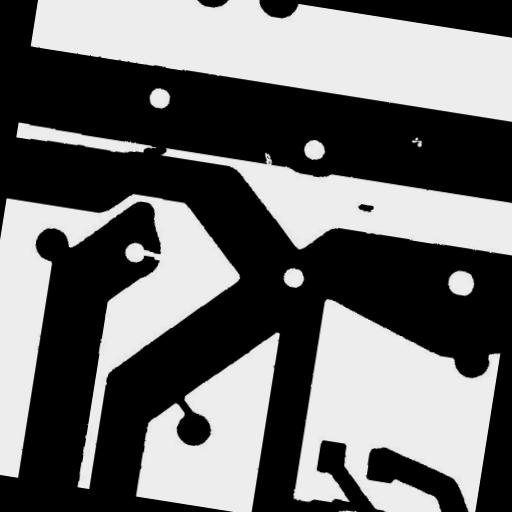copper: (348, 194, 382, 220)
mousebite: (254, 143, 282, 174)
open: (130, 240, 172, 270)
pin-hole: (402, 127, 430, 155)
short: (133, 133, 175, 169), (319, 488, 366, 512)
